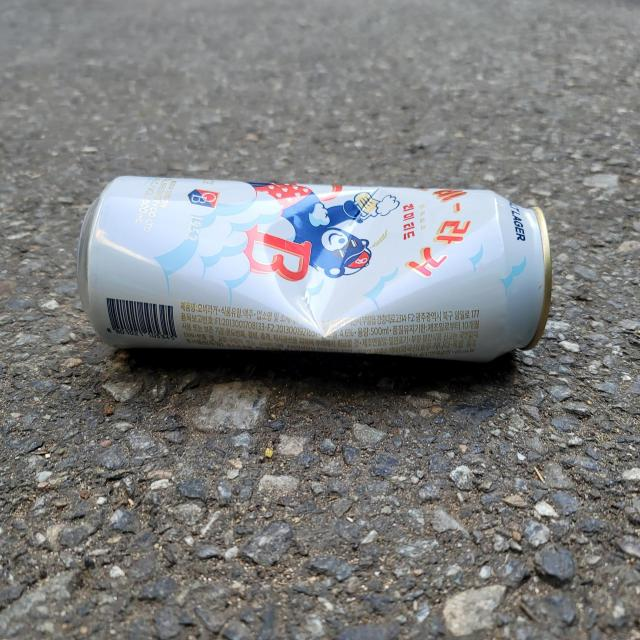can: (77, 176, 553, 362)
